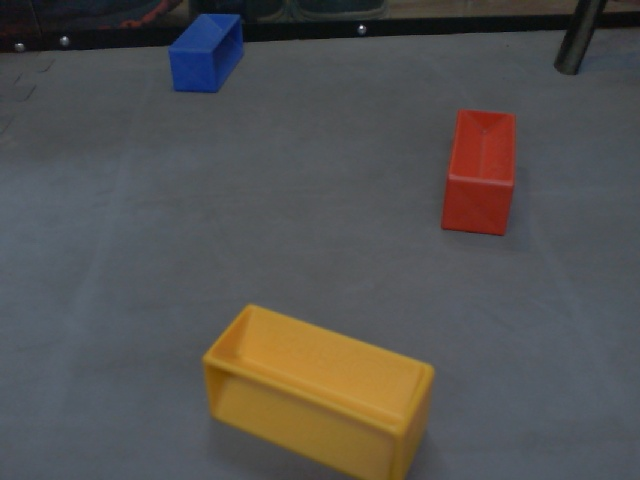BlueSample: (170, 13, 245, 95)
RedSample: (441, 106, 518, 237)
YellowSample: (199, 301, 438, 480)
